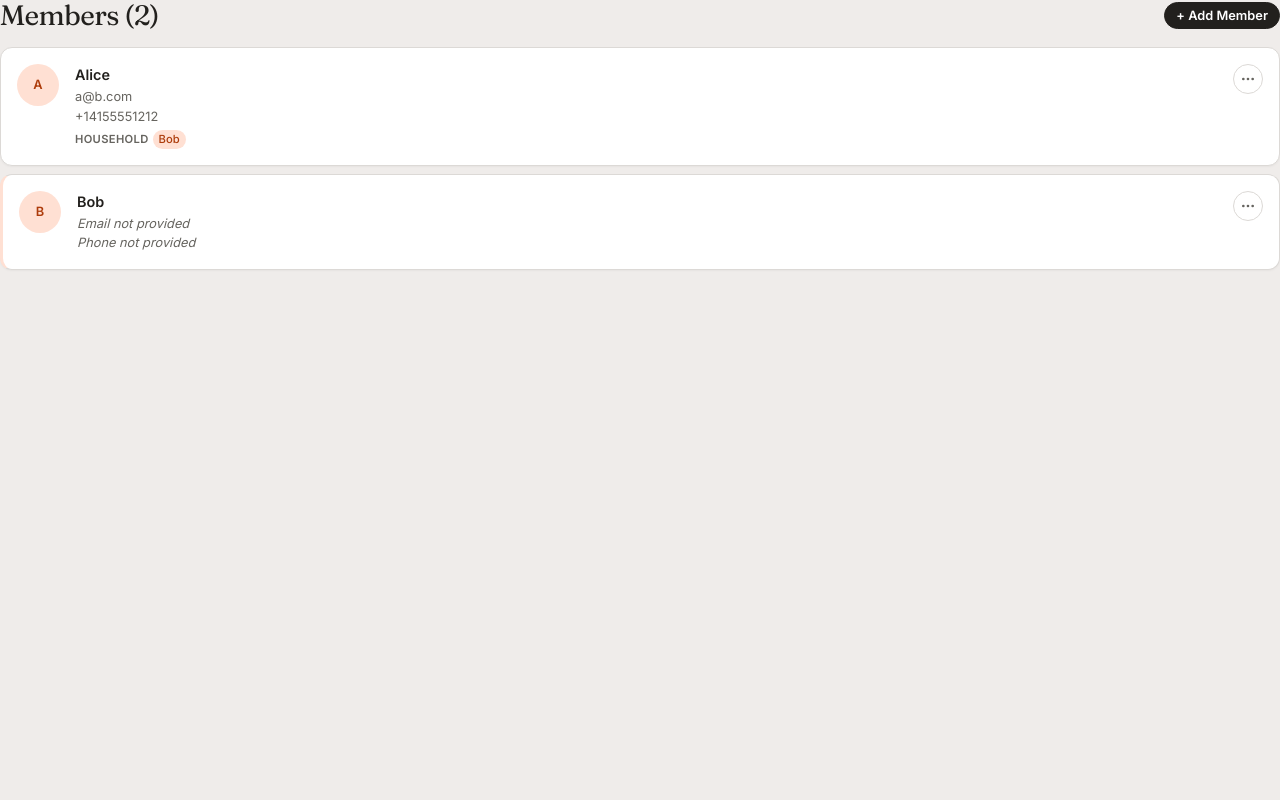
Test: MembersTab › shows delete confirmation dialog
# Open action menu for Alice
What coordinates should you click on to do the following:
click the button named "Actions for"
I would click on:
 (1248, 79)
Its box is [1233,64,1263,94].
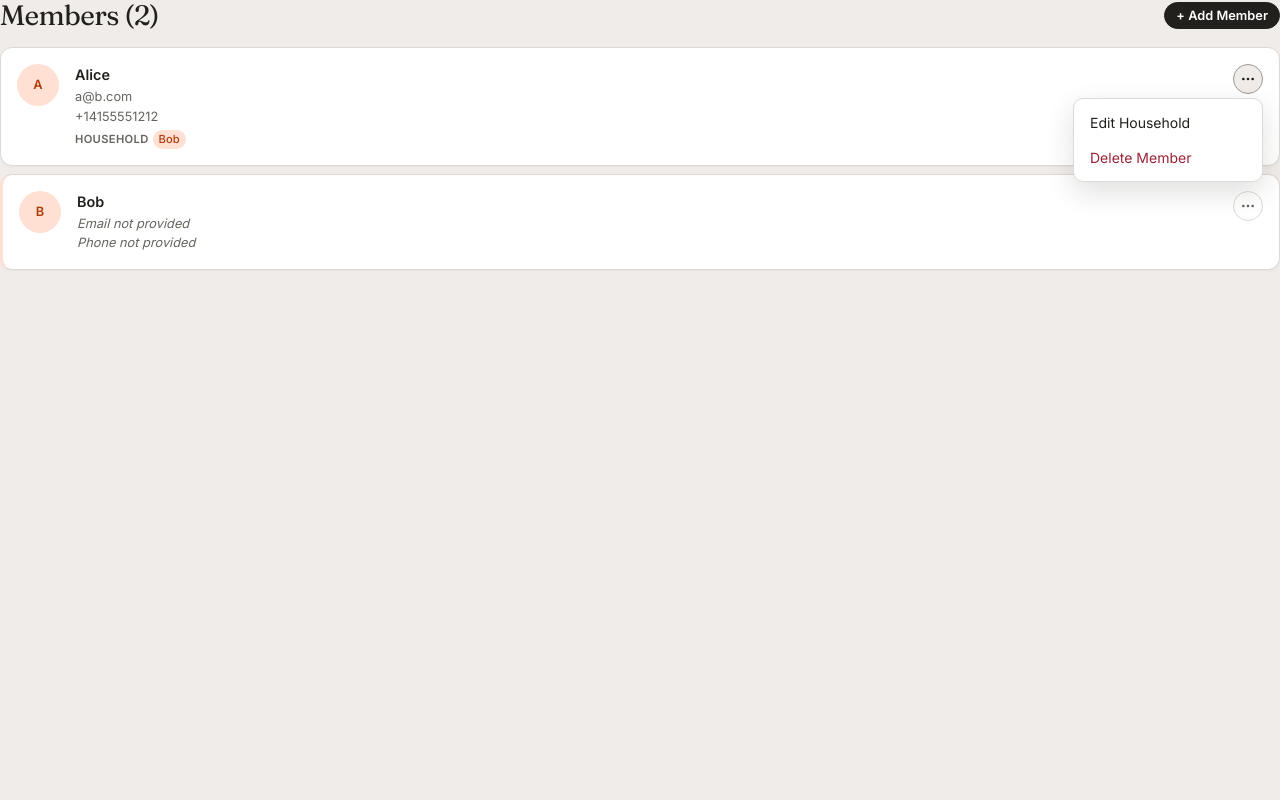
What coordinates should you click on to do the following:
click the menu item "Delete Member"
I would click on:
 (1168, 157)
Its box is [1080,140,1256,175].
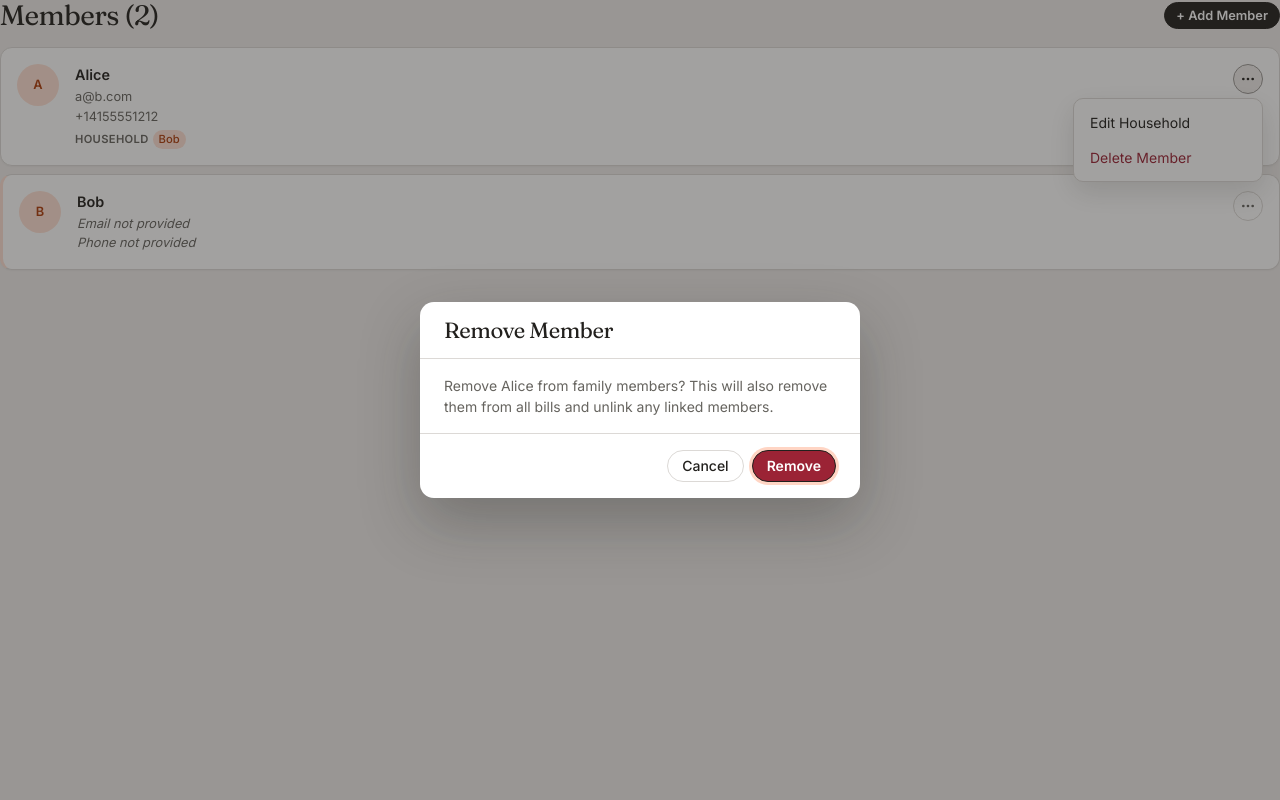
Check: the text "Remove Alice from family members" is shown, box [444,377,827,415]
